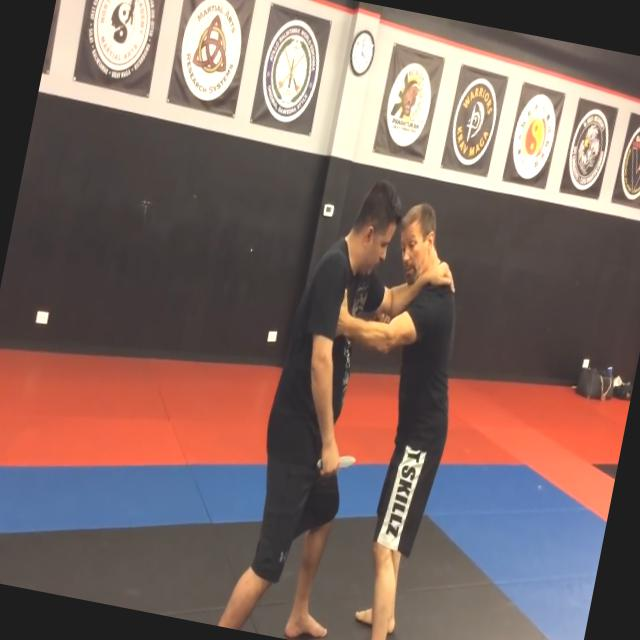knife: (314, 442, 359, 482)
